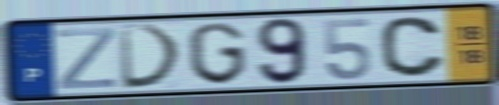5: (320, 16, 373, 82)
9: (255, 16, 310, 87)
C: (377, 14, 449, 79)
D: (116, 22, 186, 92)
G: (185, 20, 250, 87)
Z: (55, 25, 118, 92)
